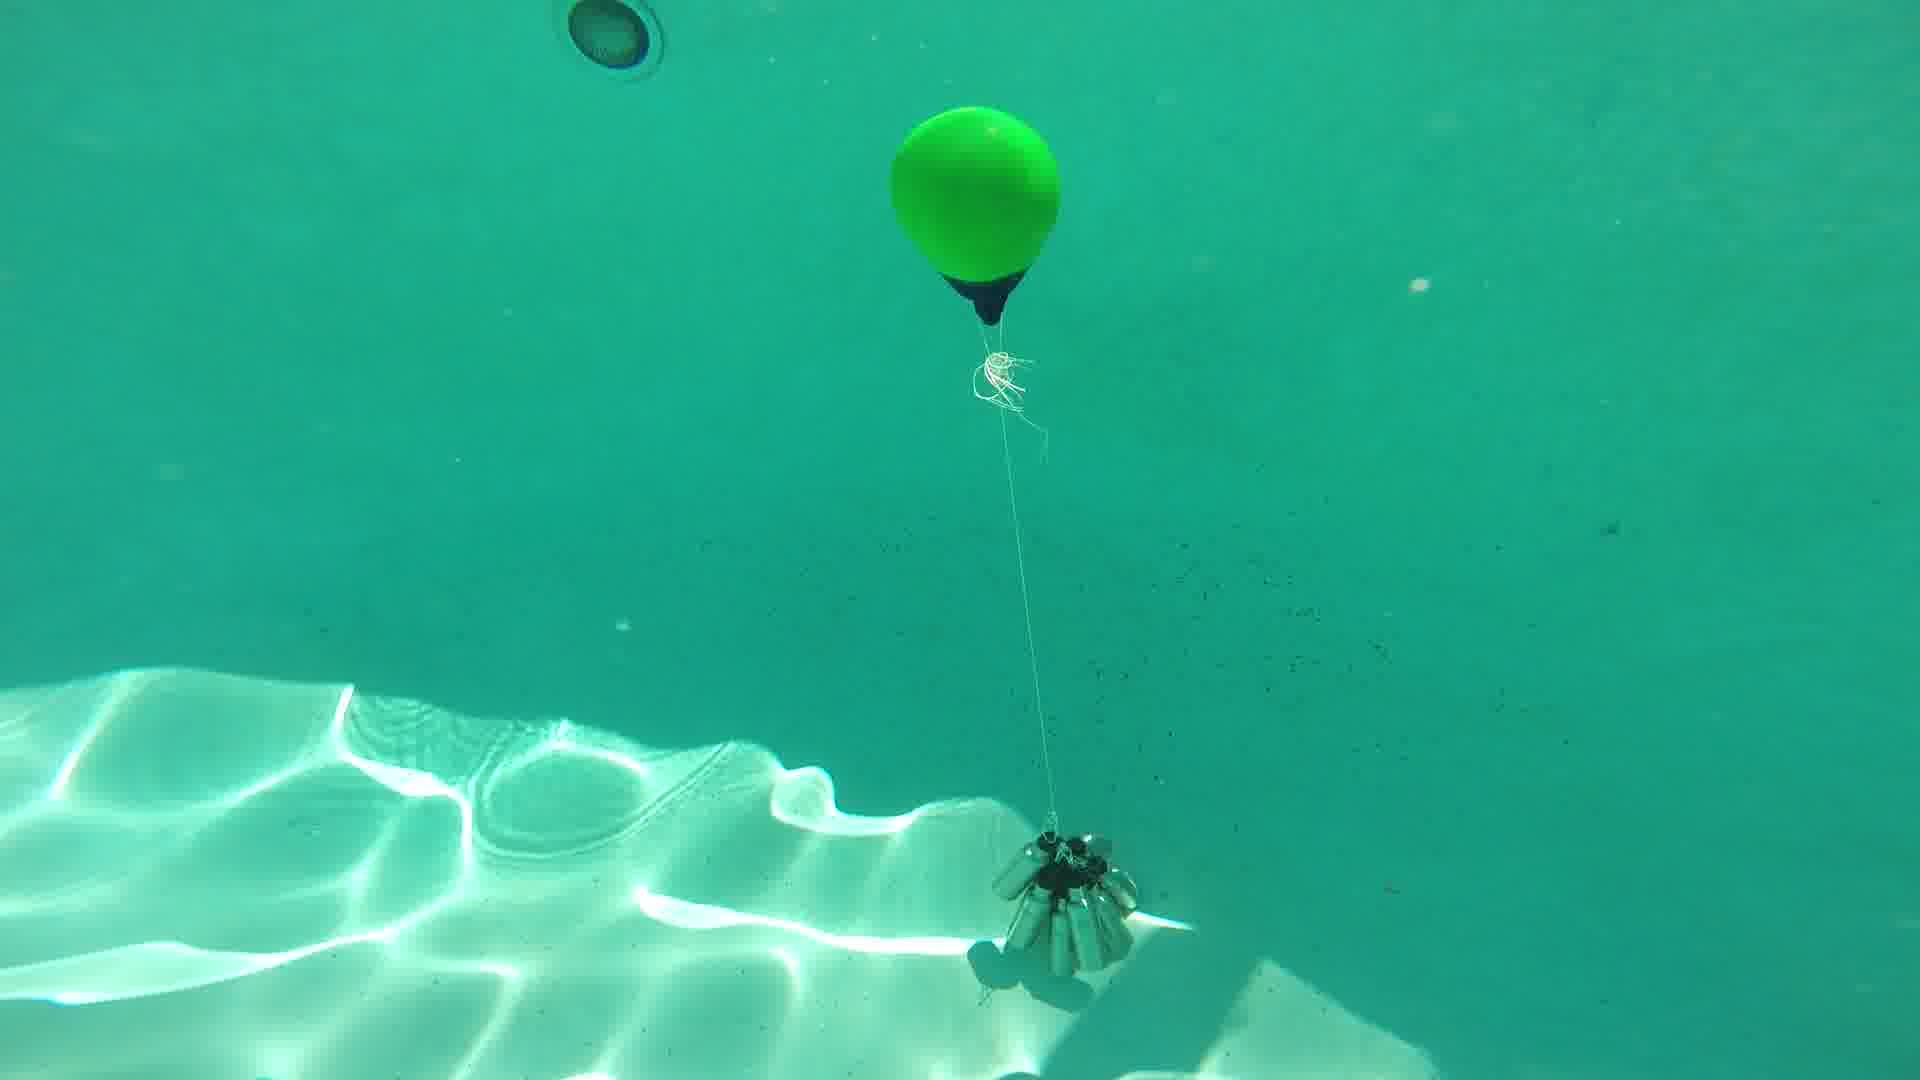yellow_buoy: (890, 105, 1064, 324)
